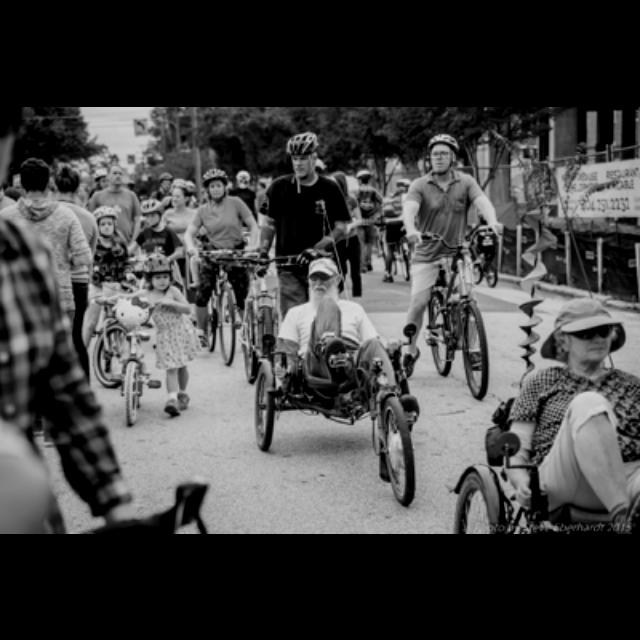With Helmet: (286, 132, 318, 182), (424, 132, 461, 174), (198, 167, 230, 201)
